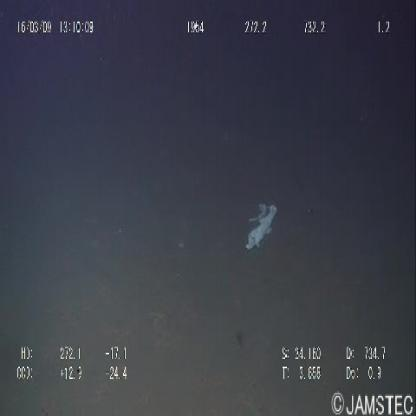Rác: (241, 192, 282, 259)
